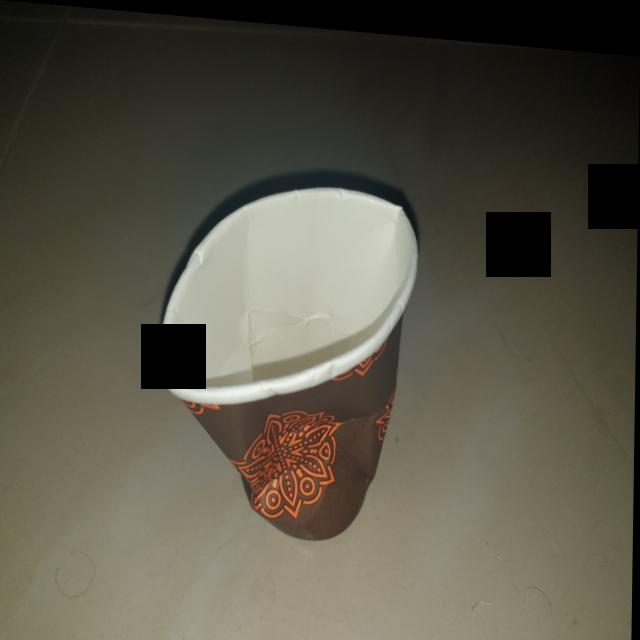cups: (155, 156, 430, 552)
